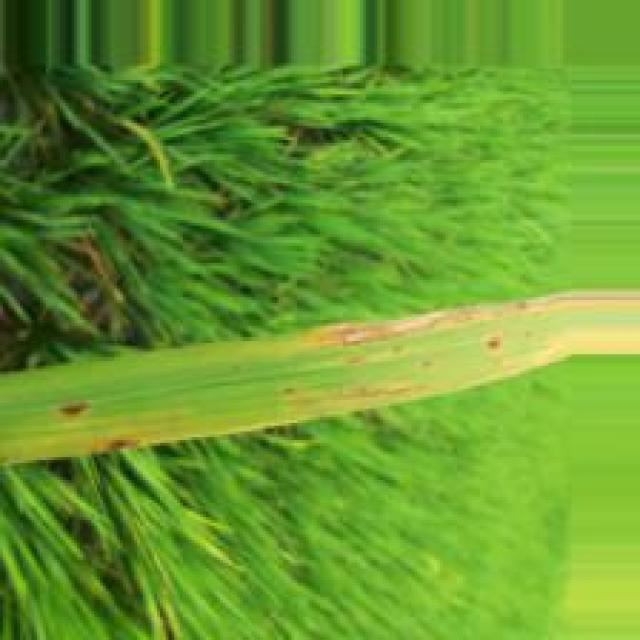Leaf_Blast: (297, 288, 640, 348), (85, 432, 149, 453), (56, 398, 94, 420)
